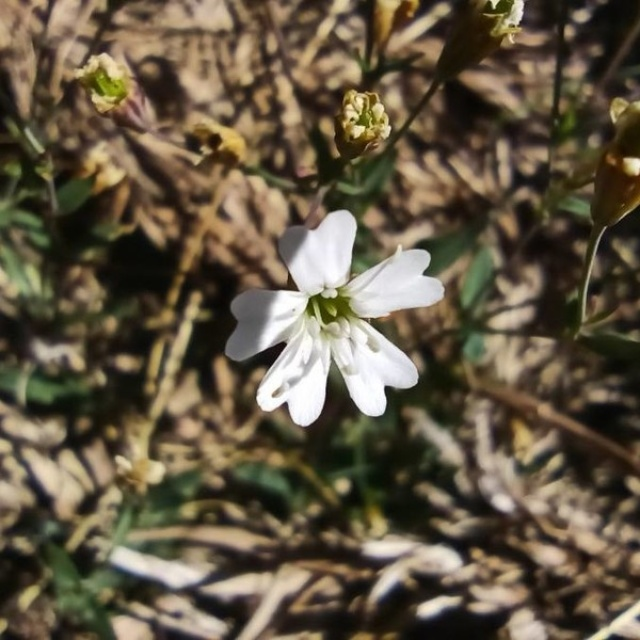obstacle: (194, 190, 457, 432)
